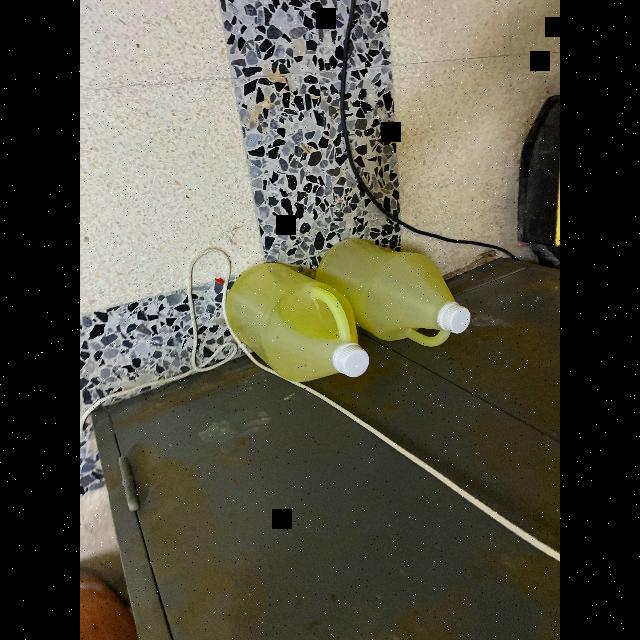chemical_plastic_gallon: (209, 248, 375, 416), (314, 236, 496, 344)
